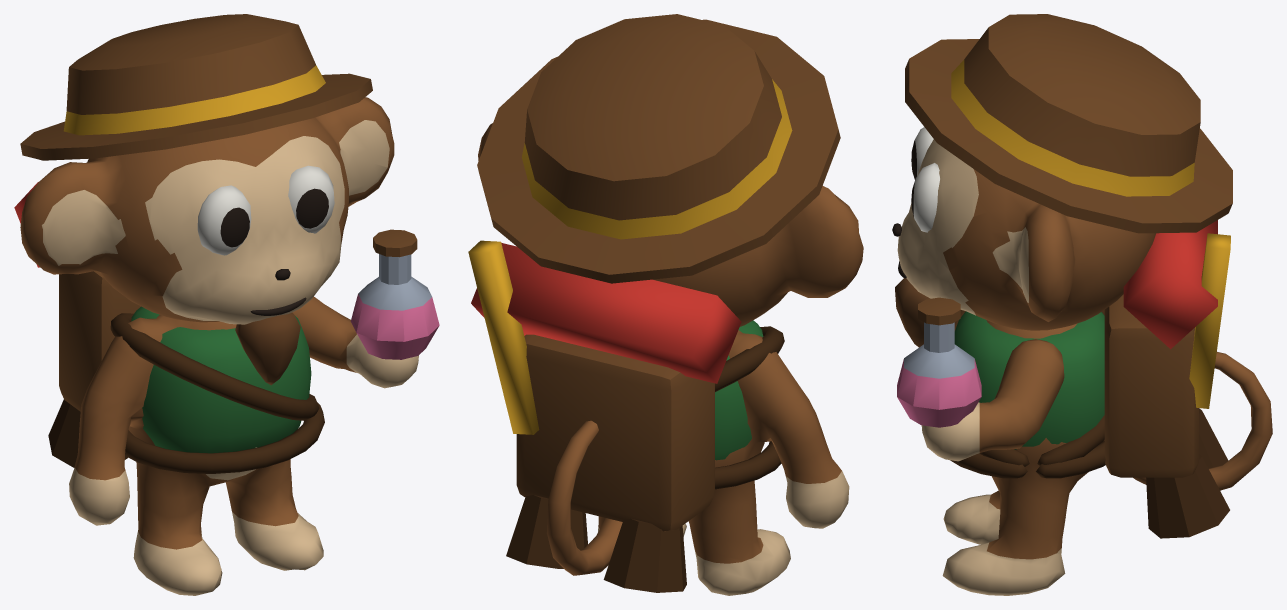
3 views of the same model, side by side, from view 1: azimuth 30°, elevation 25°; view 2: azimuth 150°, elevation 25°; view 3: azimuth 270°, elevation 25° (orthographic). The views are drawn at different scales.
Visible parts, largest first — view 1: geraldo_2_cabeca, geraldo_0_corpo, geraldo_3_braco; view 2: geraldo_2_cabeca, geraldo_0_corpo, geraldo_1_cauda; view 3: geraldo_2_cabeca, geraldo_0_corpo, geraldo_3_braco, geraldo_1_cauda.
Part boxes in pixels (<box>): geraldo_2_cabeca: <box>20,14,394,385</box>; geraldo_0_corpo: <box>14,182,324,595</box>; geraldo_3_braco: <box>292,229,439,388</box>; geraldo_2_cabeca: <box>477,14,863,326</box>; geraldo_0_corpo: <box>468,240,849,595</box>; geraldo_1_cauda: <box>547,420,622,575</box>; geraldo_2_cabeca: <box>892,14,1232,347</box>; geraldo_0_corpo: <box>942,220,1230,595</box>; geraldo_3_braco: <box>897,297,1064,461</box>; geraldo_1_cauda: <box>1133,352,1272,490</box>.
Bounding box in the file's own units: 0.7918 × 1.08 × 0.7076.
